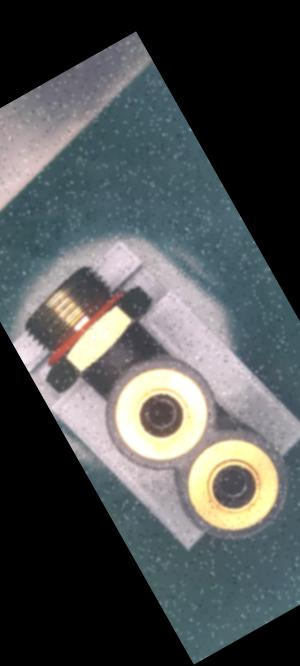craze: (101, 347, 119, 365)
